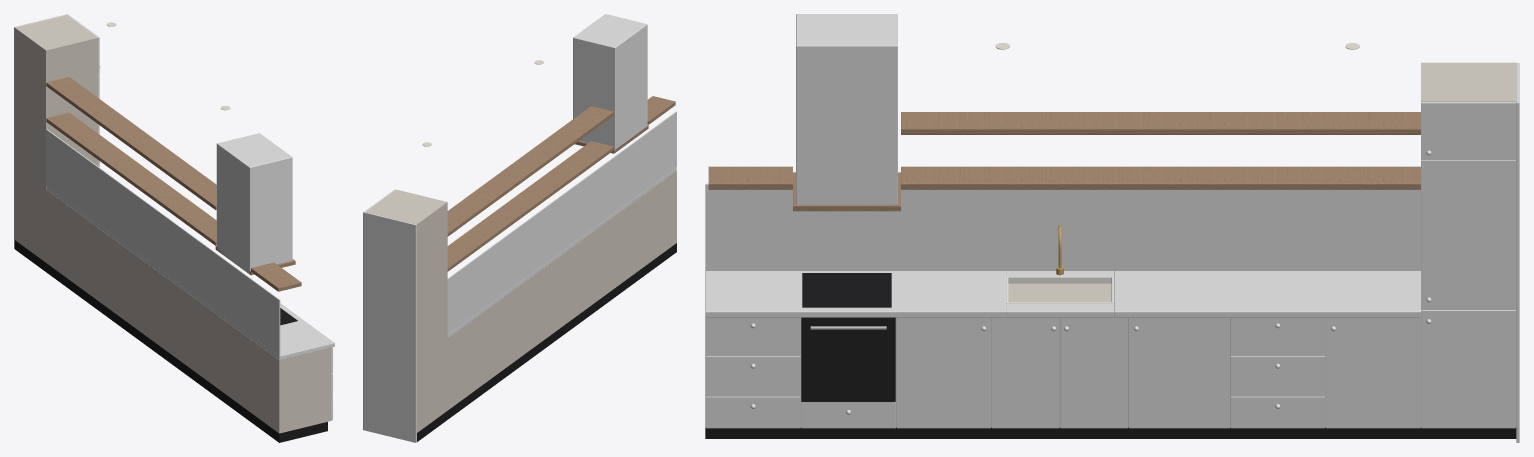
The model's file is kitchen__2_2.glb.
The picture shows the model from 3 angles, left to right: view 1: azimuth 30°, elevation 25°; view 2: azimuth 150°, elevation 25°; view 3: azimuth 270°, elevation 25°; orthographic projection. The views are drawn at different scales.
Parts seen in each view (by area): view 1: carcass, splashback, tall carcass, open shelves, hood, plinth, worktop, fronts; view 2: carcass, splashback, fridge end panel, open shelves, hood, tall carcass, plinth, worktop; view 3: fronts, splashback, worktop, open shelves, hood, plinth, oven, tall carcass, carcass, hob, fridge end panel, sink (+1 smaller).
Boxes of the visible parts, x1,y1,x2,y2 form: carcass: [46, 189, 331, 433]; splashback: [46, 129, 280, 356]; tall carcass: [15, 15, 98, 262]; open shelves: [46, 77, 301, 291]; hood: [216, 133, 292, 273]; plinth: [15, 240, 327, 442]; worktop: [46, 186, 334, 359]; fronts: [68, 15, 332, 420]; carcass: [447, 171, 676, 410]; splashback: [447, 111, 676, 334]; fridge end panel: [363, 211, 416, 442]; open shelves: [447, 96, 675, 271]; hood: [573, 14, 647, 149]; tall carcass: [366, 189, 447, 432]; plinth: [417, 243, 676, 441]; worktop: [447, 167, 676, 337]; fronts: [705, 102, 1515, 428]; splashback: [705, 183, 1420, 270]; worktop: [705, 271, 1420, 317]; open shelves: [708, 112, 1420, 189]; hood: [796, 14, 897, 204]; plinth: [705, 427, 1516, 438]; oven: [801, 317, 895, 402]; tall carcass: [1421, 62, 1516, 426]; carcass: [705, 283, 1420, 427]; hob: [802, 273, 891, 307]; fridge end panel: [1516, 63, 1519, 442]; sink: [1006, 276, 1113, 303].
Bounding box in the file's own units: 0.63 × 2.7 × 5.12.
Materials: 15 (1 with a texture image).
